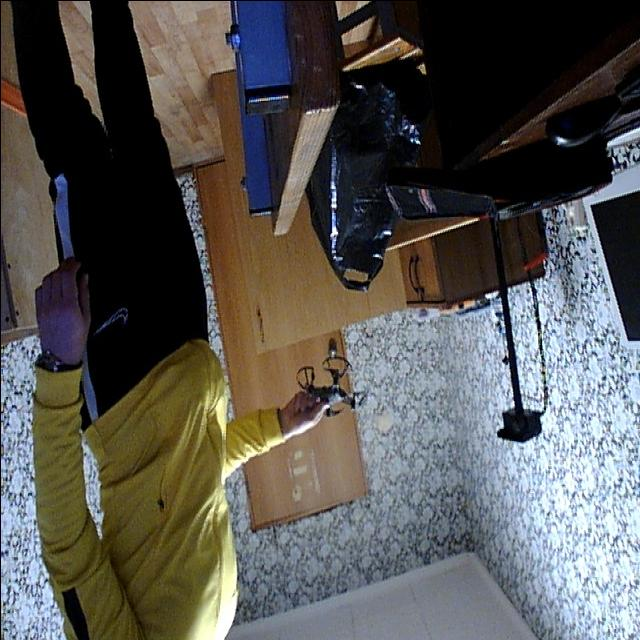drone: (288, 350, 372, 432)
